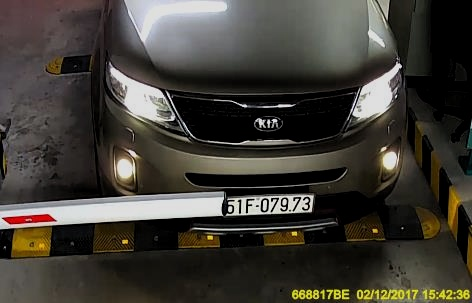plate: (223, 190, 313, 217)
